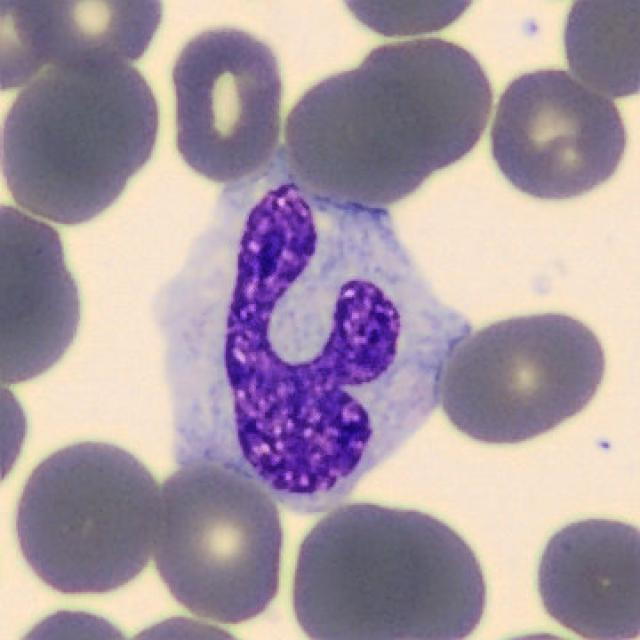Linfocito atipico: (137, 183, 469, 516)
